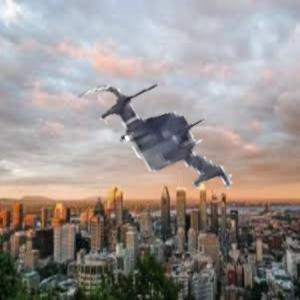drone: (67, 54, 246, 233)
